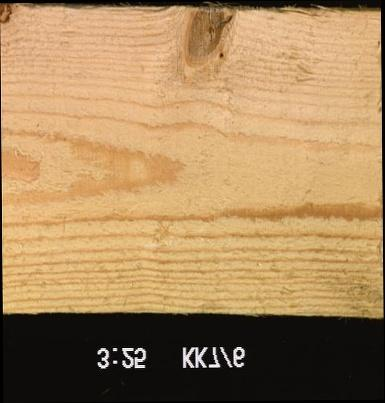edge_knot: (181, 6, 223, 64), (0, 2, 11, 26)
